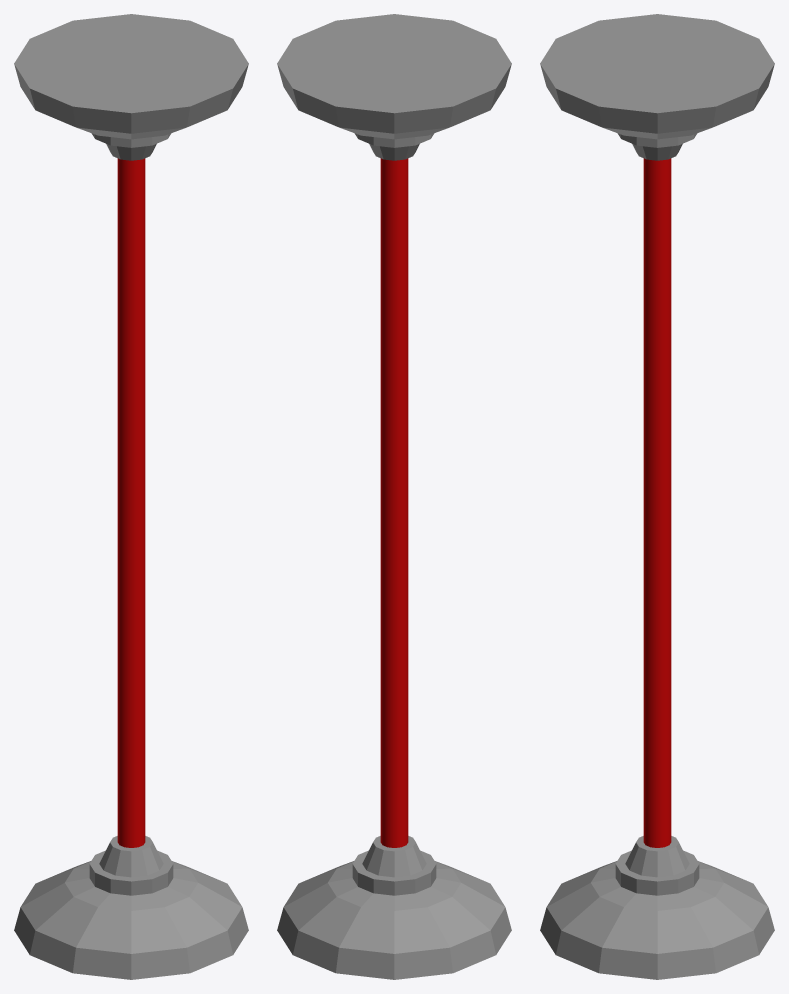
The model's file is Laser_001.FBX.
The picture shows the model from 3 angles, left to right: view 1: azimuth 30°, elevation 25°; view 2: azimuth 150°, elevation 25°; view 3: azimuth 270°, elevation 25°; orthographic projection.
Parts seen in each view (by area): view 1: Cylinder014; view 2: Cylinder014; view 3: Cylinder014.
Boxes of the visible parts, bbox=[...] form: Cylinder014: bbox=[14, 14, 248, 979]; Cylinder014: bbox=[277, 14, 511, 979]; Cylinder014: bbox=[540, 14, 774, 979].
Size of the model in its own units: 12.66 by 51.55 by 12.66.
